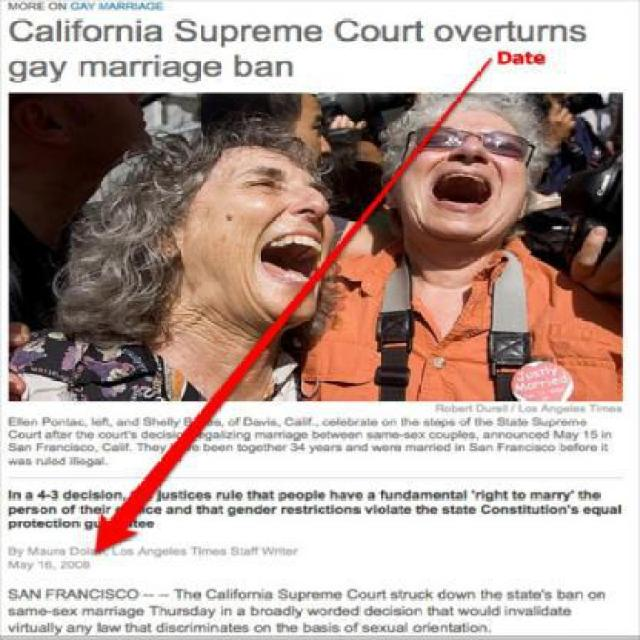Person: (6, 88, 622, 334), (1, 119, 338, 401)
